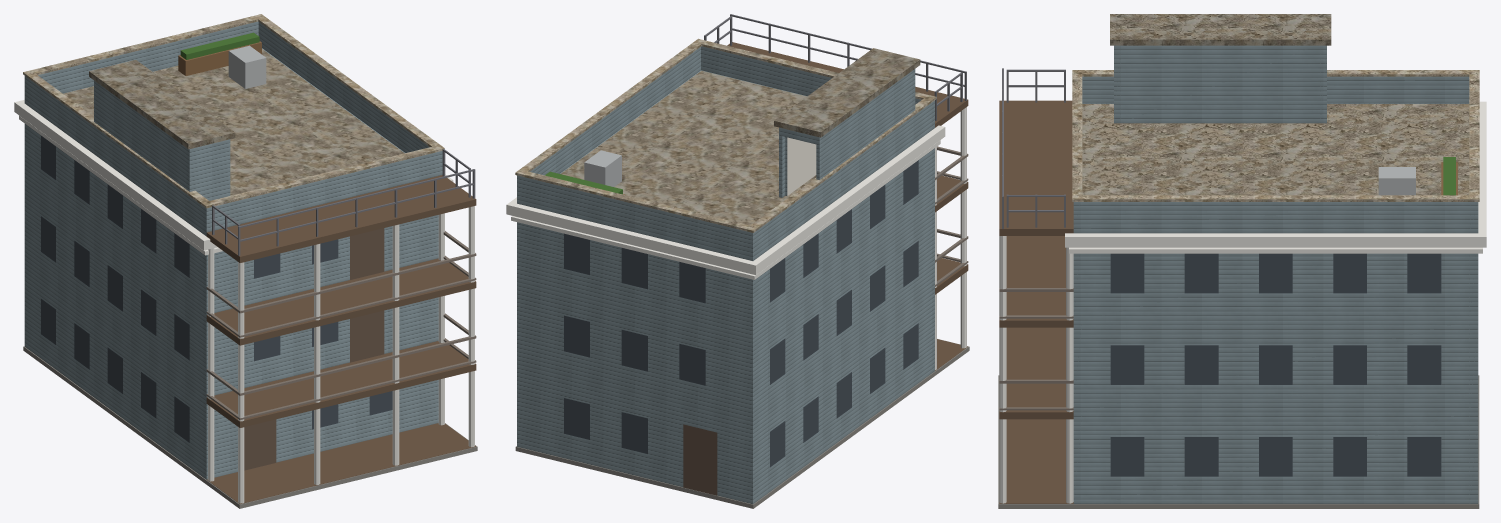
File: ns-triple-decker.towns-v1.lod1.glb
The picture shows the model from 3 angles, left to right: view 1: azimuth 30°, elevation 25°; view 2: azimuth 150°, elevation 25°; view 3: azimuth 270°, elevation 25°; orthographic projection. The views are drawn at different scales.
Parts seen in each view (by area): view 1: ns-triple-decker; view 2: ns-triple-decker; view 3: ns-triple-decker.
Boxes of the visible parts, bbox=[...] form: ns-triple-decker: bbox=[14, 14, 477, 508]; ns-triple-decker: bbox=[506, 14, 969, 508]; ns-triple-decker: bbox=[998, 14, 1486, 508].
Bounding box in the file's own units: 9.5 × 11.95 × 14.48.
3 materials, 2 textured.
